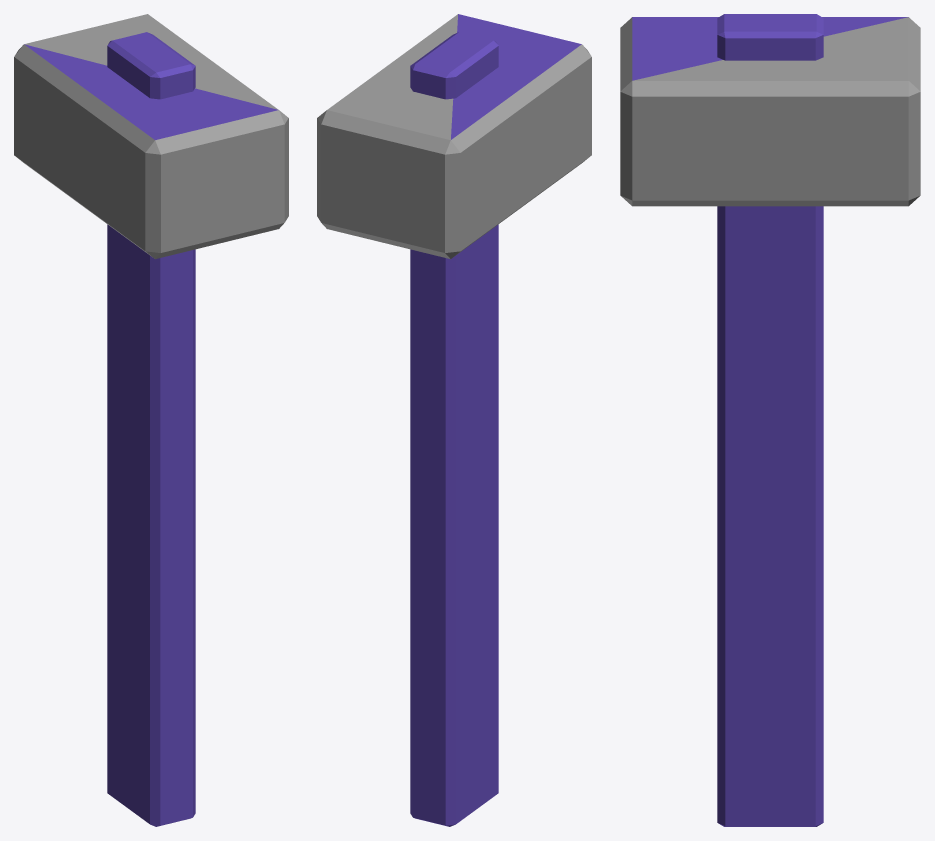
File: old.glb
3 views of the same model, side by side, from view 1: azimuth 30°, elevation 25°; view 2: azimuth 150°, elevation 25°; view 3: azimuth 270°, elevation 25° (orthographic). The views are drawn at different scales.
Parts seen in each view (by area): view 1: world; view 2: world; view 3: world.
Boxes of the visible parts, x1,y1,x2,y2 form: world: (14, 14, 288, 826); world: (317, 14, 591, 826); world: (620, 14, 920, 826).
Size of the model in its own units: 0.199 by 1 by 0.3425.
